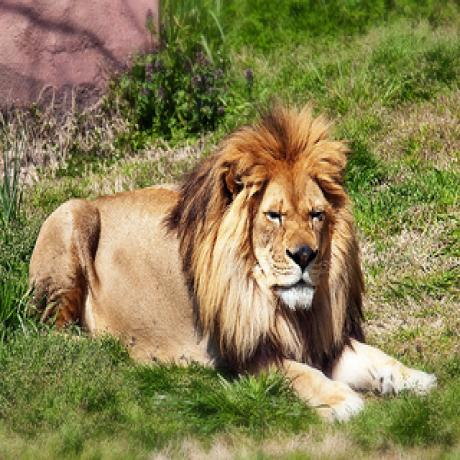Lion: (20, 103, 437, 428)
